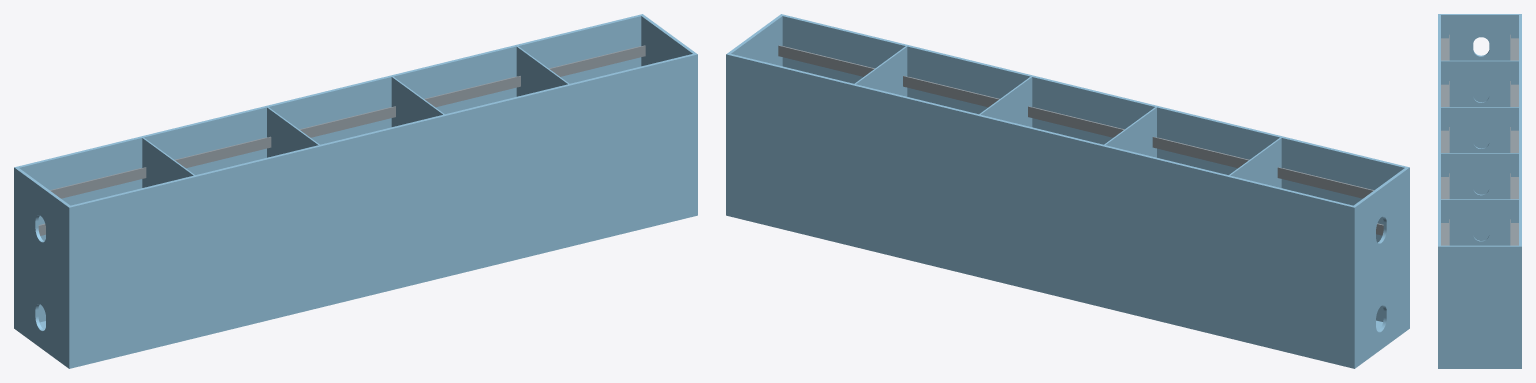
Rendered from bwt_4x3_bottom_mh.dae.
The picture shows the model from 3 angles, left to right: view 1: azimuth 30°, elevation 25°; view 2: azimuth 150°, elevation 25°; view 3: azimuth 270°, elevation 25°; orthographic projection. The views are drawn at different scales.
Visible parts, largest first — view 1: Part 1 (×6); view 2: Part 1, Part 2 (×5); view 3: Part 1 (×6), Part 2 (×5).
Boxes of the visible parts, x1,y1,x2,y2 form: Part 1 (×6): (14,14,697,368); Part 1: (726,14,1409,368); Part 2 (×5): (778,45,1373,198); Part 1 (×6): (1438,14,1521,368); Part 2 (×5): (1441,34,1449,245).
Size of the model in its own units: 20.4 by 3.1 by 5.
